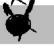not correct: (1, 0, 39, 43)
